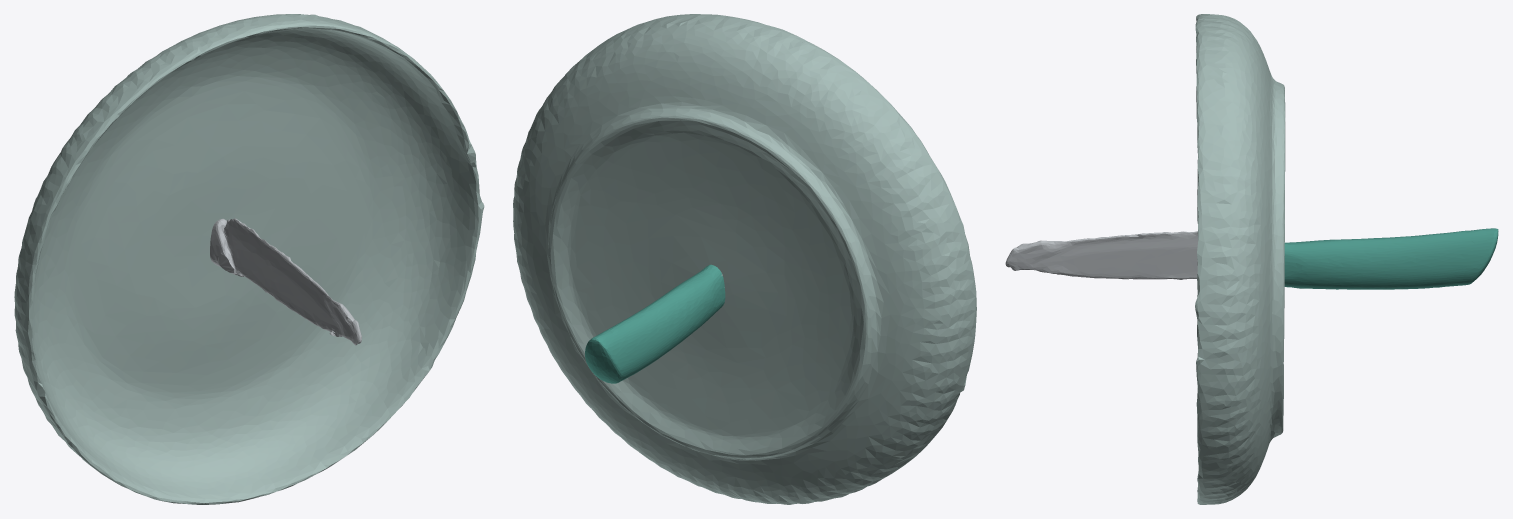
The picture shows the model from 3 angles, left to right: view 1: azimuth 30°, elevation 25°; view 2: azimuth 150°, elevation 25°; view 3: azimuth 270°, elevation 25°; orthographic projection. The views are drawn at different scales.
Visible parts, largest first — view 1: world; view 2: world; view 3: world.
Part boxes in pixels (<box>): world: <box>14,14,484,504</box>; world: <box>513,14,976,504</box>; world: <box>1005,14,1498,504</box>.
Size of the model in its own units: 0.2089 by 0.2061 by 0.2071.
